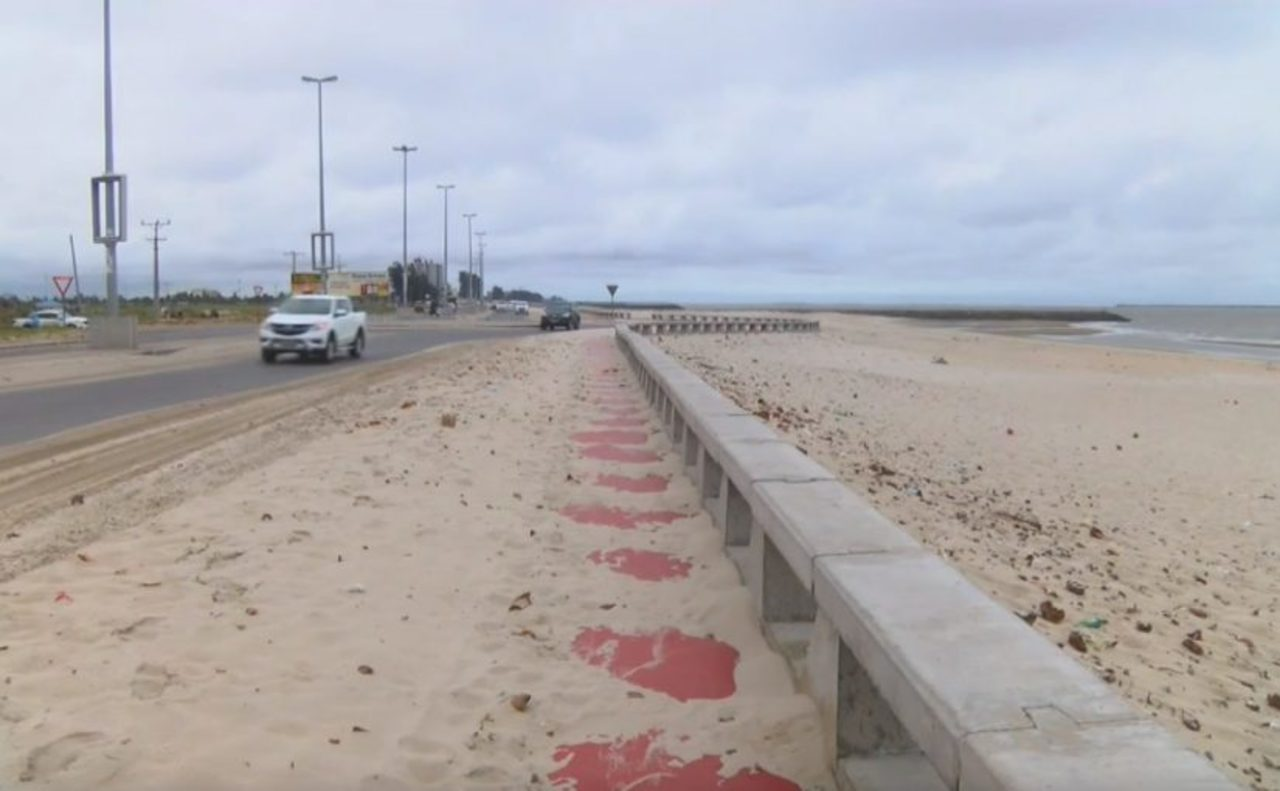car: (258, 294, 368, 366), (15, 309, 88, 329), (540, 301, 580, 329), (512, 302, 529, 316)
